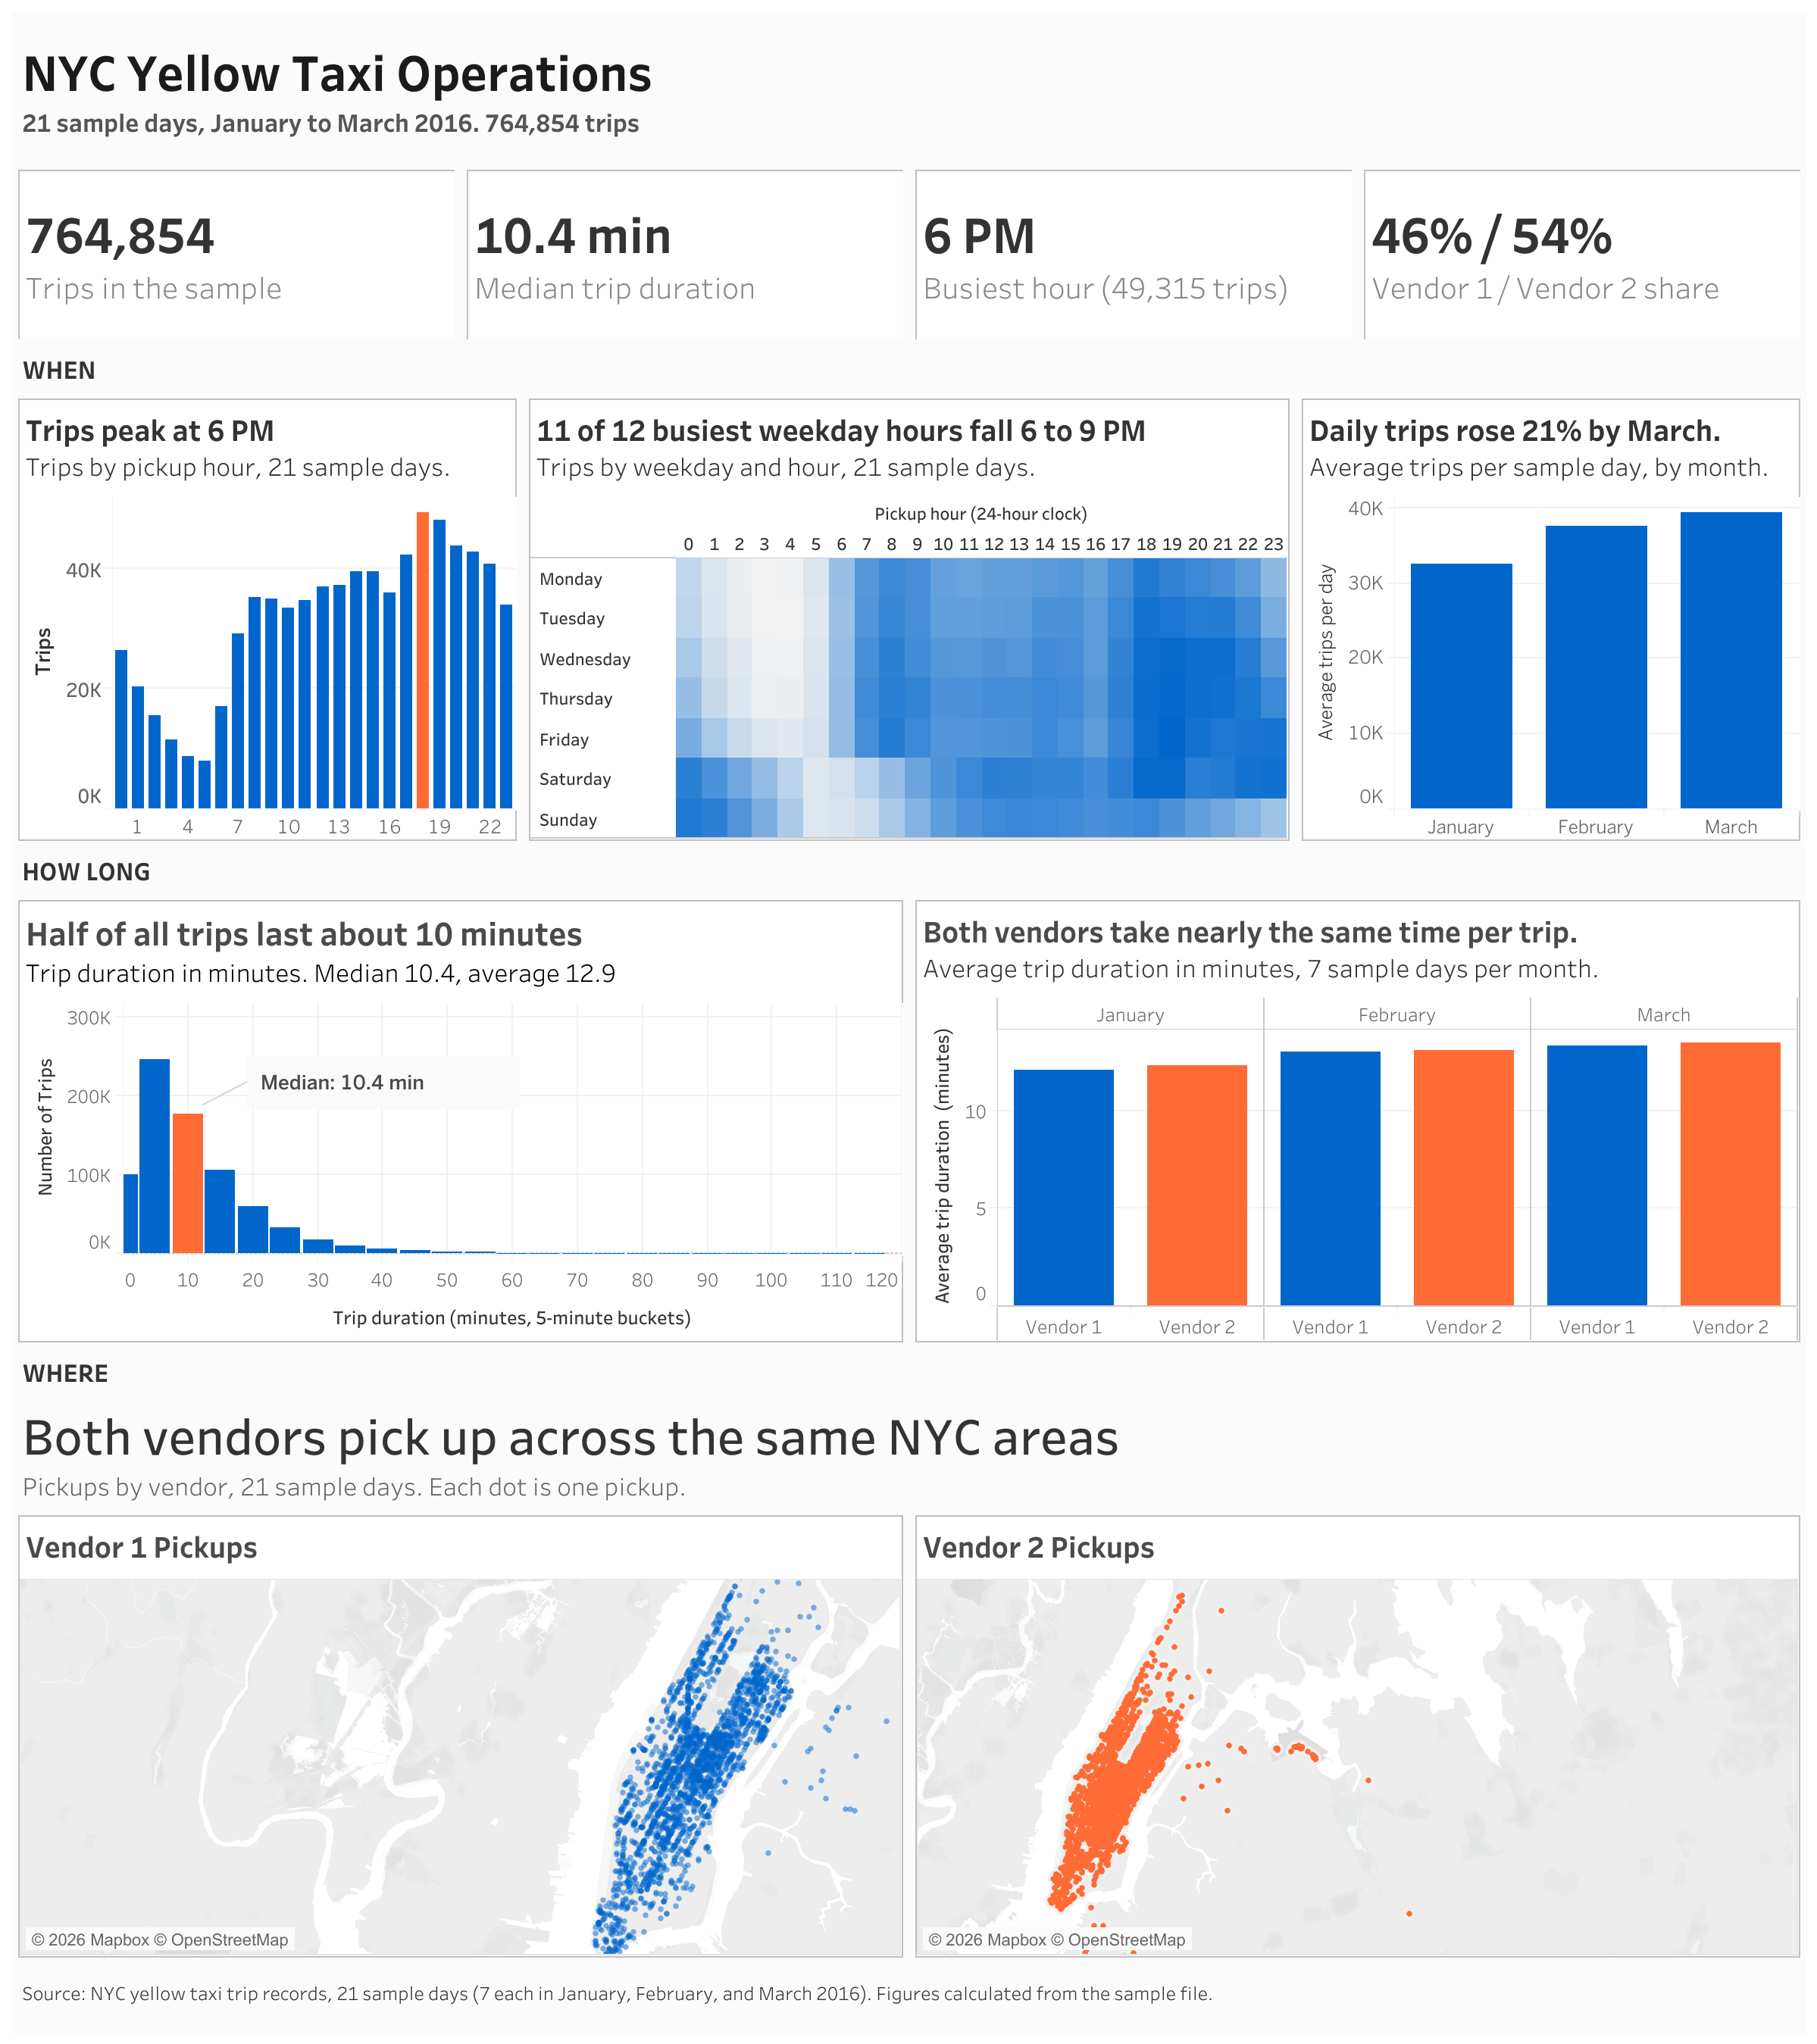

Layout of this report page (visuals, bound fields, positions):
{"tool":"tableau","page":{"name":"Dashboard","canvas":[1000,1000],"units":"permille","ordinal":0},"visuals":[{"type":"text","box":[16.7,8.5,968.3,37.3]},{"type":"text","box":[16.7,59.6,184.2,1.5]},{"type":"text","box":[232.5,60,184.2,1.5]},{"type":"text","box":[451.7,60,184.2,1.5]},{"type":"text","box":[665.8,60,184.2,1.5]},{"type":"text","box":[17.5,61.9,179.2,37.7]},{"type":"text","box":[667.5,61.9,184.2,38.5]},{"type":"text","box":[235,62.3,183.3,38.1]},{"type":"text","box":[450,62.3,183.3,37.7]},{"type":"text","box":[18.3,121.2,83.3,11.5]},{"type":"worksheet","title":"Demand By Hour of Day","mark":"Automatic","rows":["NYC!yellow!taxi!trip!data_E34409DE13804590AE1B3AFD5EF76F8A"],"cols":["Calculation_1729033331531778"],"box":[17.5,131.2,463.3,192.3]},{"type":"worksheet","title":"Peak Demand Heatmap","mark":"Automatic","rows":["Calculation_1729033332129799"],"cols":["Calculation_1729033332039686"],"box":[500.8,131.5,480,177.3]},{"type":"legend","title":"Peak Demand Heatmap","param":"[federated.09h72az03j3dzq164zigt0wm2bvi].[__tableau_internal_object_id__].[cnt:N","box":[580,308.5,401.7,10.8]},{"type":"worksheet","title":"Trips per Day by Month","mark":"Bar","rows":["Calculation_1799683300511746"],"cols":["Calculation_1729033331802116"],"box":[15.8,331.2,967.5,145.8]},{"type":"text","box":[17.5,490.4,83.3,11.5]},{"type":"worksheet","title":"Trip Duration Distribution","mark":"Bar","rows":["NYC!yellow!taxi!trip!data_E34409DE13804590AE1B3AFD5EF76F8A"],"cols":["Calculation_1799684383739910"],"box":[15.8,507.7,485,183.8]},{"type":"worksheet","title":"Duration by Vendor (Monthly)","mark":"Bar","rows":["Calculation_1111933822824450"],"cols":["Calculation_1729033331802116","VendorID"],"box":[518.3,507.7,466.7,185]},{"type":"text","box":[14.2,698.5,83.3,11.5]},{"type":"text","box":[18.3,713.9,965,46.1]},{"type":"worksheet","title":"Vendor 2 Pickups","mark":"Circle","rows":["pickup_latitude"],"cols":["pickup_longitude"],"box":[515.8,768.5,468.3,208.1]},{"type":"worksheet","title":"Vendor 1 Pickups","mark":"Circle","rows":["pickup_latitude"],"cols":["pickup_longitude"],"box":[18.3,768.9,482.5,208.5]},{"type":"text","box":[17.5,976.1,965.8,28.9]}]}

Visuals, with their boxes on the dashboard's canvas, which has no fixed pixel size, in thousandths of its width and height (x1, y1, x2, y2). These are canvas units, not pixel positions in the 1817x2044 screenshot, which may show the page scaled, cropped or inside an application window:
text: x1=17, y1=8, x2=985, y2=46
text: x1=17, y1=60, x2=201, y2=61
text: x1=232, y1=60, x2=417, y2=62
text: x1=452, y1=60, x2=636, y2=62
text: x1=666, y1=60, x2=850, y2=62
text: x1=18, y1=62, x2=197, y2=100
text: x1=668, y1=62, x2=852, y2=100
text: x1=235, y1=62, x2=418, y2=100
text: x1=450, y1=62, x2=633, y2=100
text: x1=18, y1=121, x2=102, y2=133
"Demand By Hour of Day" worksheet: x1=18, y1=131, x2=481, y2=324
"Peak Demand Heatmap" worksheet: x1=501, y1=132, x2=981, y2=309
"Peak Demand Heatmap" legend: x1=580, y1=308, x2=982, y2=319
"Trips per Day by Month" worksheet (Bar marks): x1=16, y1=331, x2=983, y2=477
text: x1=18, y1=490, x2=101, y2=502
"Trip Duration Distribution" worksheet (Bar marks): x1=16, y1=508, x2=501, y2=692
"Duration by Vendor (Monthly)" worksheet (Bar marks): x1=518, y1=508, x2=985, y2=693
text: x1=14, y1=698, x2=98, y2=710
text: x1=18, y1=714, x2=983, y2=760
"Vendor 2 Pickups" worksheet (Circle marks): x1=516, y1=768, x2=984, y2=977
"Vendor 1 Pickups" worksheet (Circle marks): x1=18, y1=769, x2=501, y2=977
text: x1=18, y1=976, x2=983, y2=1005
